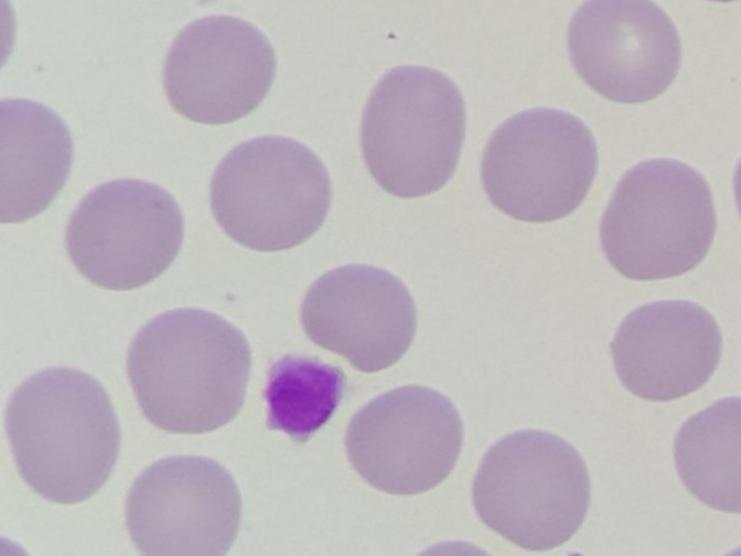Uninfected: (126, 307, 247, 439), (9, 367, 121, 504), (600, 155, 722, 279), (210, 134, 331, 253), (475, 427, 589, 550), (342, 384, 467, 496), (68, 177, 186, 294), (359, 69, 467, 195), (485, 109, 599, 224), (300, 264, 417, 373), (165, 15, 278, 126), (570, 0, 681, 105), (130, 457, 247, 556), (616, 302, 723, 403), (0, 97, 76, 232), (671, 399, 741, 516)
